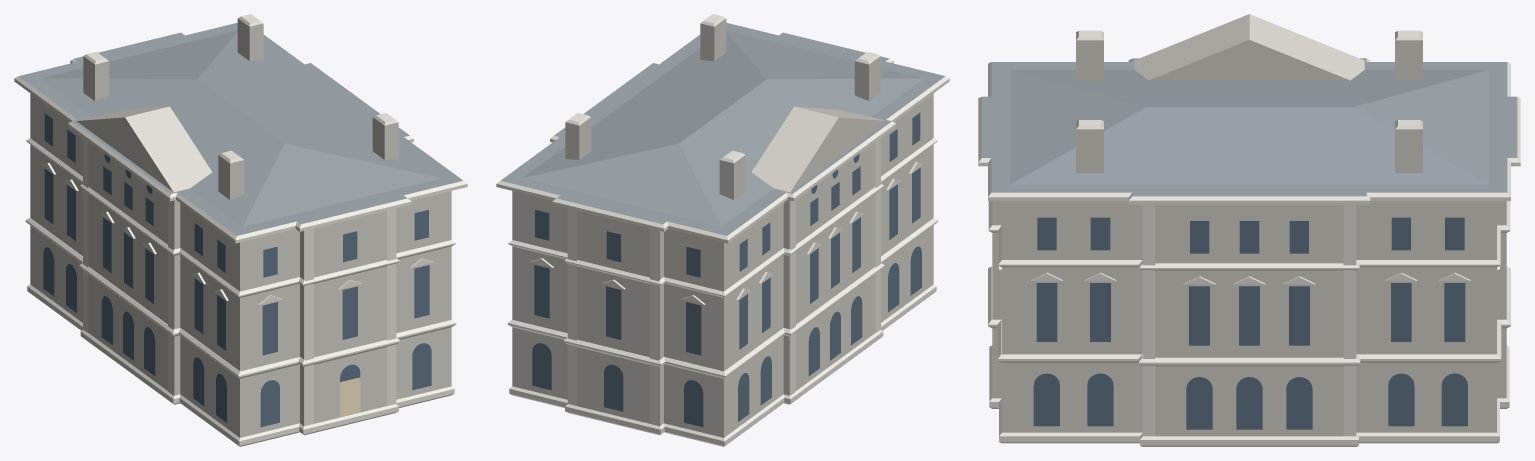
Rendered from cola-city-hall.glb.
3 renders of one model, left to right at view 1: azimuth 30°, elevation 25°; view 2: azimuth 150°, elevation 25°; view 3: azimuth 270°, elevation 25°, orthographic. The views are drawn at different scales.
Visible parts, largest first — view 1: Columbia City Hall; view 2: Columbia City Hall; view 3: Columbia City Hall.
Boxes of the visible parts, x1,y1,x2,y2 form: Columbia City Hall: (14, 14, 467, 446); Columbia City Hall: (496, 14, 949, 446); Columbia City Hall: (978, 14, 1520, 446).
Bounding box in the file's own units: 24 × 24.2 × 39.1.
